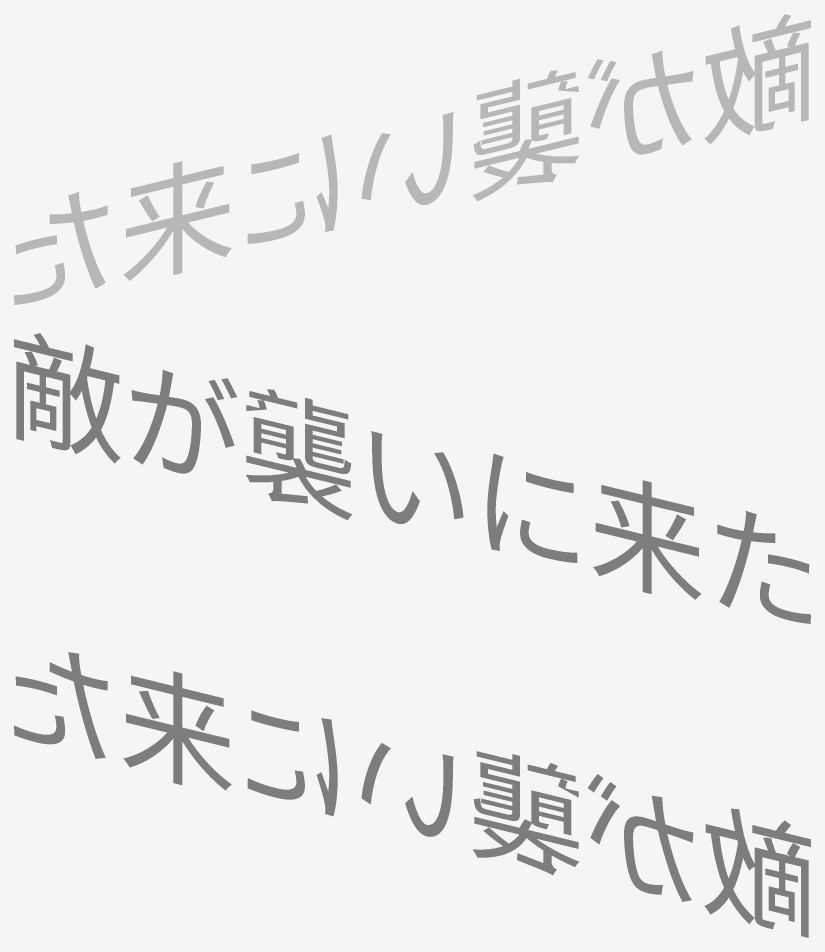
File: fight.obj
3 views of the same model, one above another, from view 1: azimuth 30°, elevation 25°; view 2: azimuth 150°, elevation 25°; view 3: azimuth 330°, elevation 25° (orthographic).
Parts seen in each view (by area): view 1: テキスト; view 2: テキスト; view 3: テキスト.
Boxes of the visible parts, x1,y1,x2,y2 form: テキスト: (14,14,810,304); テキスト: (14,333,810,623); テキスト: (14,652,810,937).
Bounding box in the file's own units: 6.85 × 0.931 × 0.
Materials: 1 (1 with a texture image).
